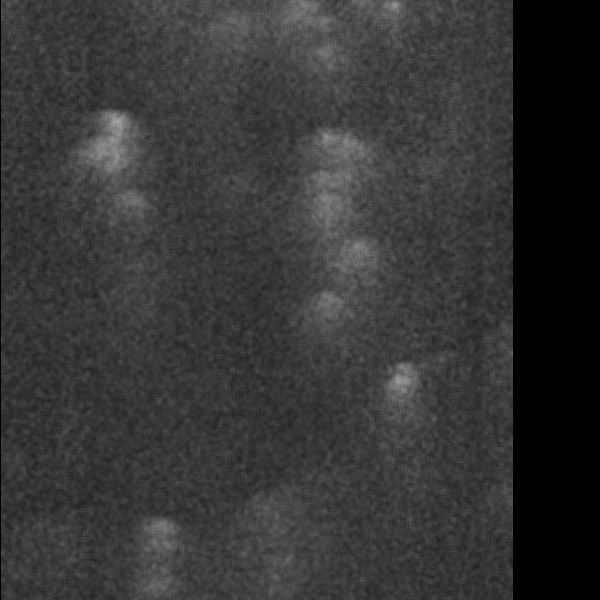spark: (88, 107, 135, 294), (384, 355, 433, 430), (336, 230, 379, 281), (204, 2, 254, 45), (100, 186, 168, 216), (137, 514, 187, 554), (310, 289, 350, 335), (131, 576, 194, 595), (301, 44, 349, 67)
